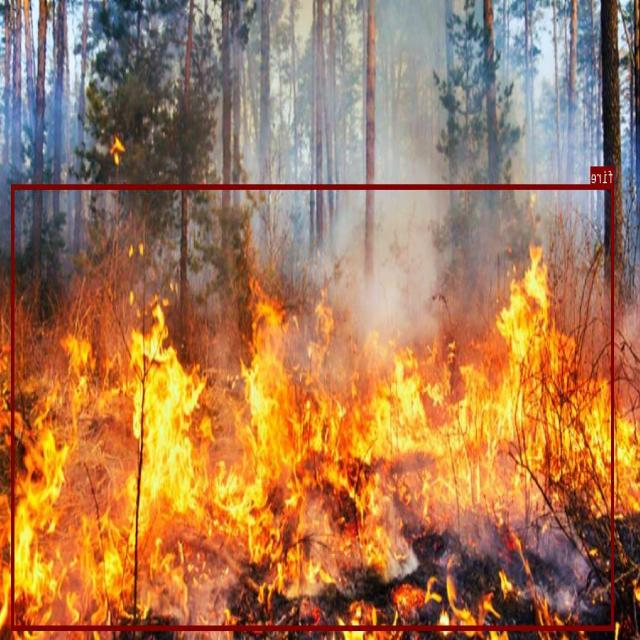fire: (12, 184, 614, 630)
